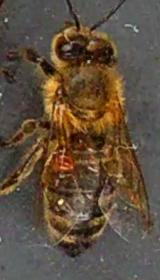varroa_mite: (51, 138, 76, 172)
